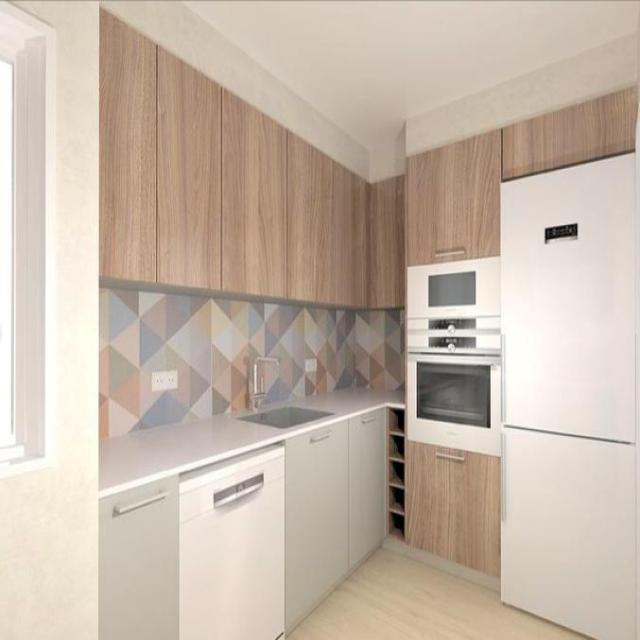dishwasher: (176, 438, 284, 639)
